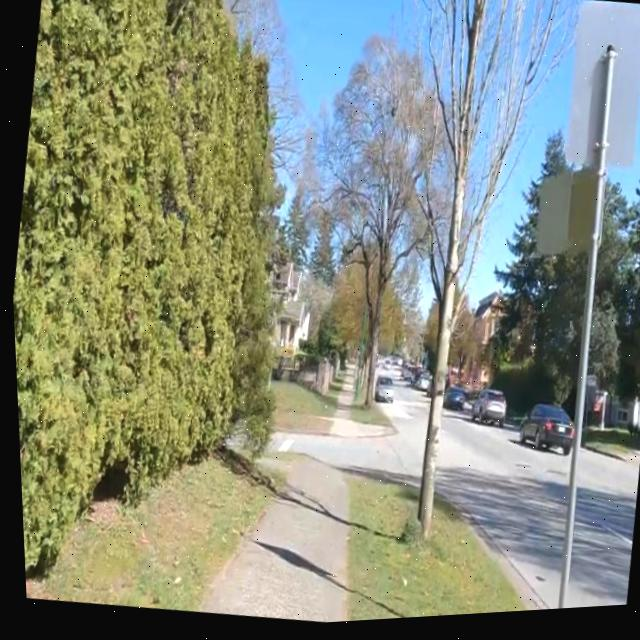Automobile: (516, 411, 568, 462), (468, 396, 501, 432), (370, 379, 387, 407), (441, 391, 459, 417)
Road: (433, 415, 565, 616), (562, 457, 635, 615), (287, 404, 424, 483)
Sidewalk: (194, 459, 346, 626), (319, 420, 386, 441)
